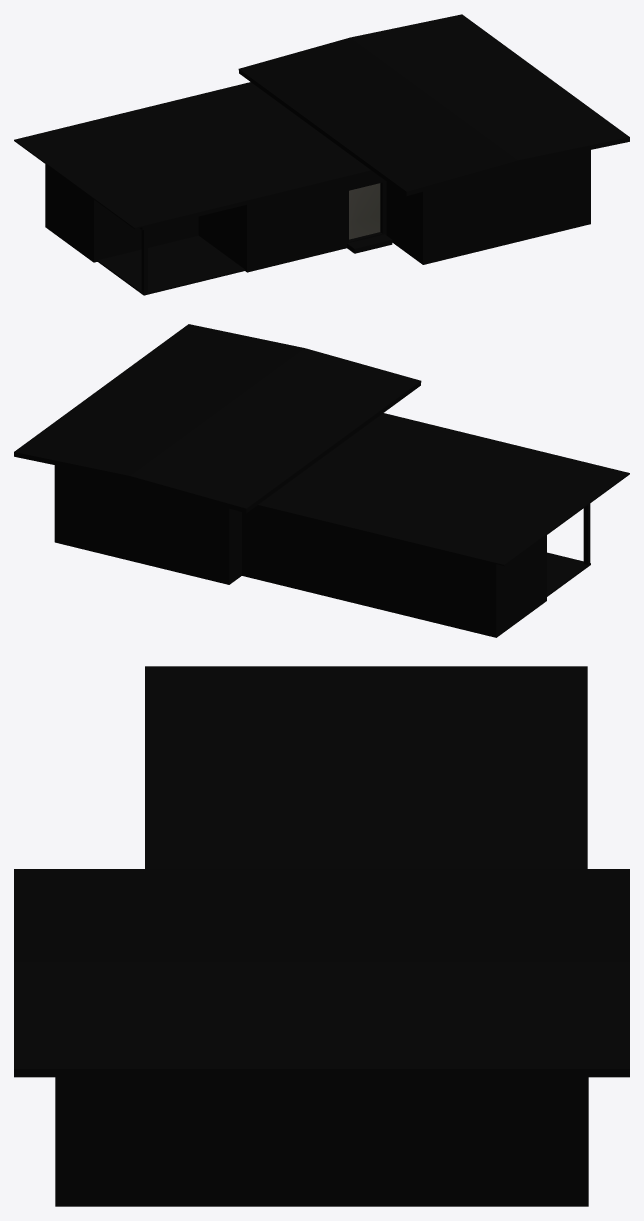
File: GoodspringsHome01LOD.obj
3 renders of one model, top to bottom at view 1: azimuth 30°, elevation 25°; view 2: azimuth 150°, elevation 25°; view 3: azimuth 270°, elevation 25°, orthographic. The views are drawn at different scales.
Visible parts, largest first — view 1: collision; view 2: collision; view 3: collision.
Boxes of the visible parts, <box> form: collision: <box>14,14,629,295</box>; collision: <box>14,324,629,637</box>; collision: <box>14,666,629,1206</box>.
Size of the model in its own units: 1403 by 270 by 887.
